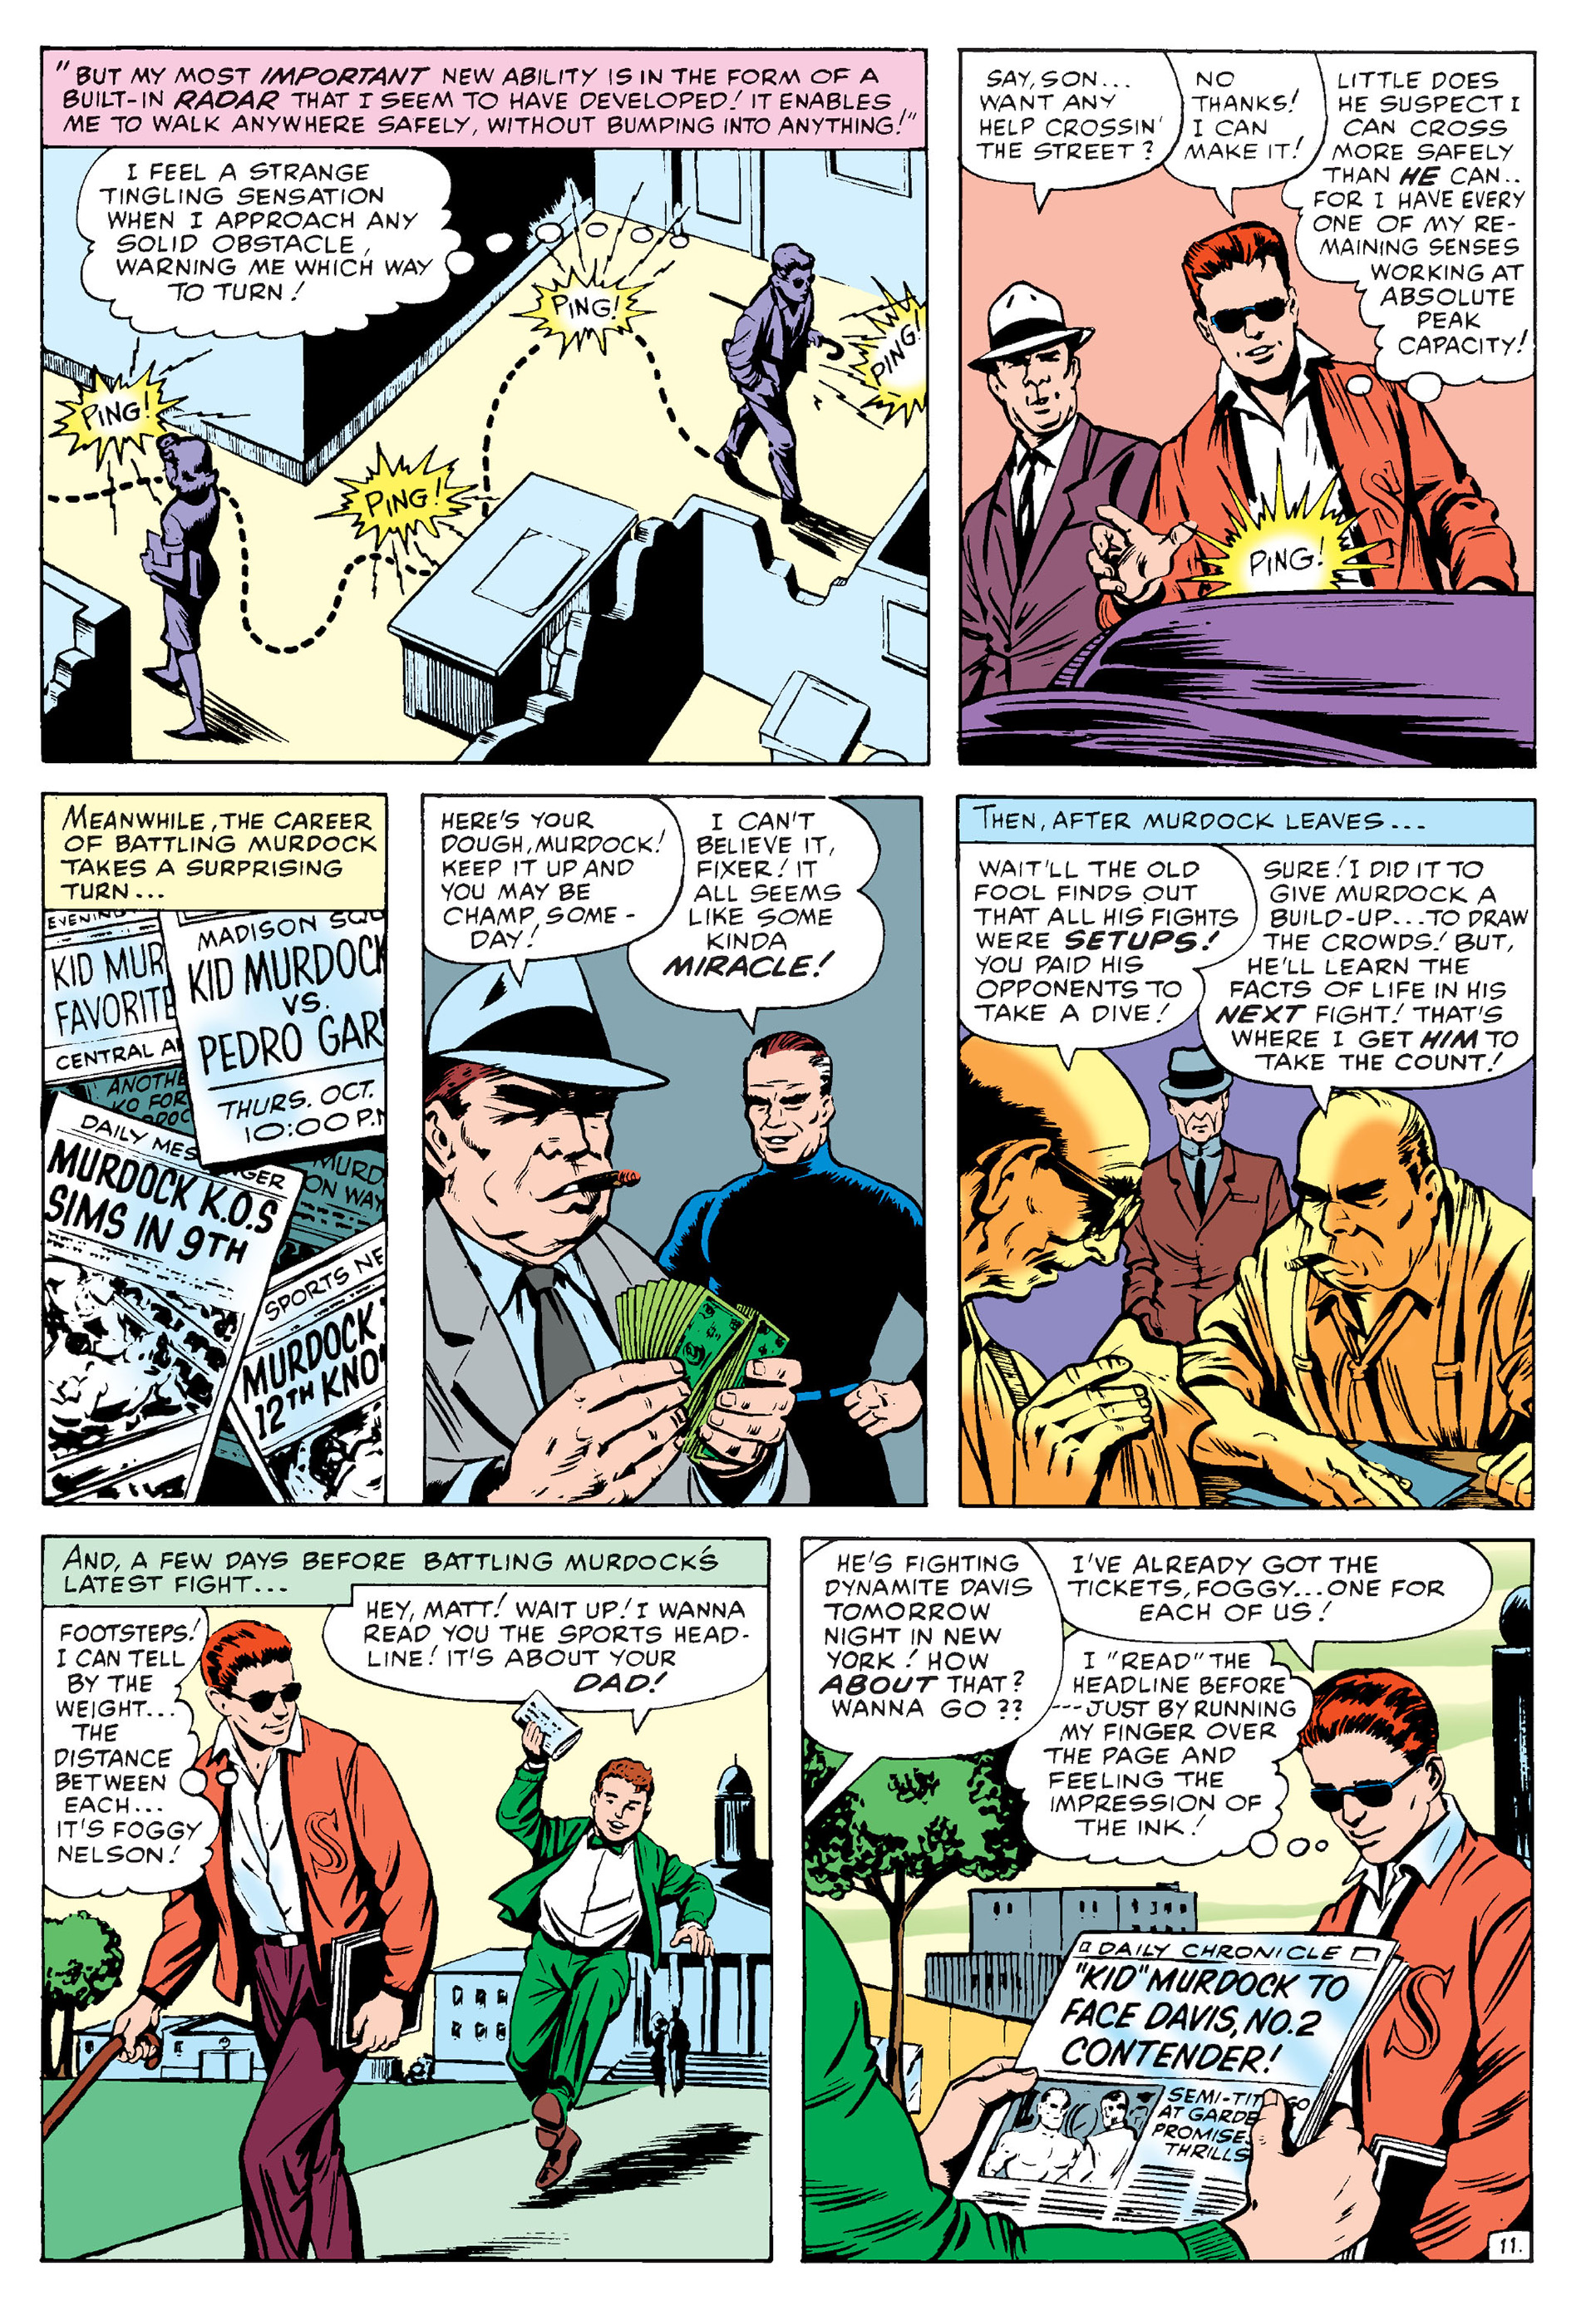Baloon: (48, 44, 936, 152), (1012, 1634, 1346, 1883), (1215, 843, 1543, 1091), (1301, 55, 1536, 393), (76, 152, 460, 344), (806, 1521, 1053, 1773), (951, 860, 1257, 1063), (1030, 1543, 1501, 1673), (44, 1604, 227, 1904), (333, 1590, 771, 1712), (633, 802, 885, 1012), (48, 1543, 771, 1611), (423, 788, 688, 968), (48, 795, 383, 910), (954, 49, 1182, 204), (961, 795, 1533, 846), (1175, 58, 1316, 194)
Vignetta: (41, 39, 926, 762), (792, 1528, 1533, 2265), (41, 1528, 774, 2265), (958, 46, 1536, 770), (954, 802, 1533, 1507), (416, 795, 922, 1507), (37, 795, 388, 1500)
